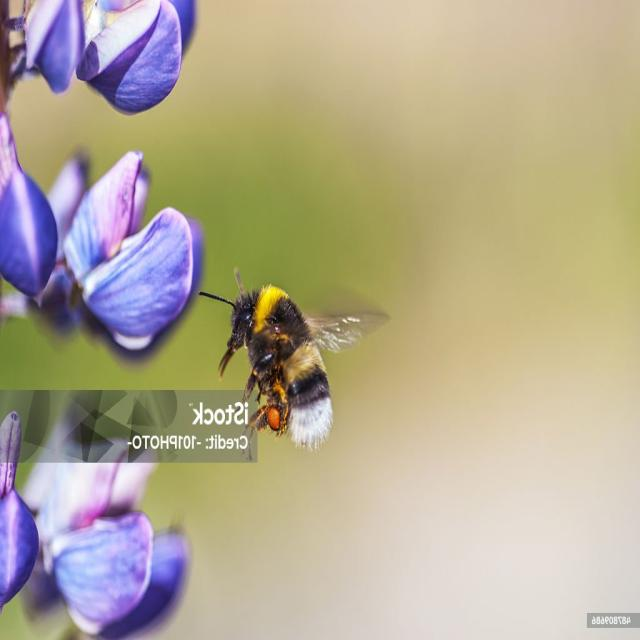bee: (198, 264, 391, 465)
